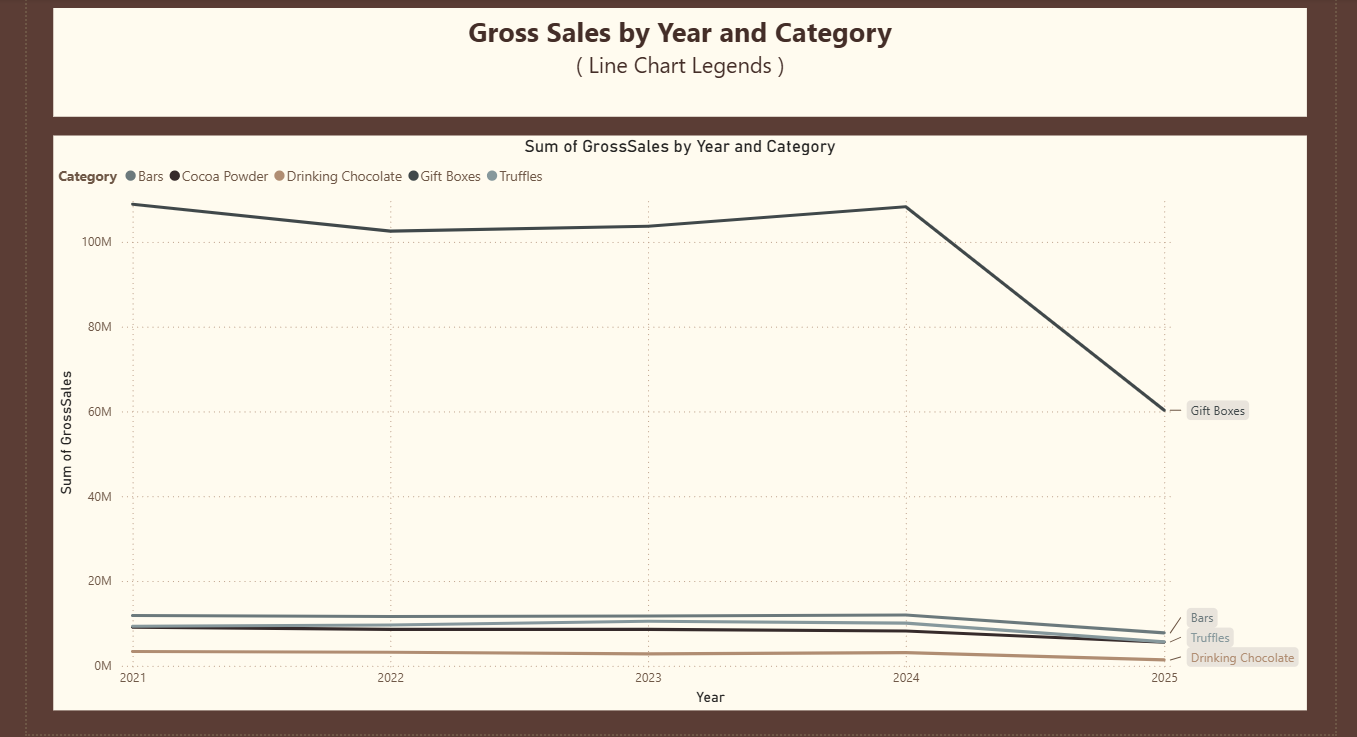

This screenshot's page, from the dashboard's own definition file:
{"tool":"powerbi","page":{"name":"Line Chart Legends","canvas":[1280,720],"ordinal":3},"visuals":[{"type":"lineChart","fields":{"Category":["DimDate.Date.Variation.Date Hierarchy.Year","DimDate.Date.Variation.Date Hierarchy.Quarter","DimDate.Date.Variation.Date Hierarchy.Month","DimDate.Date.Variation.Date Hierarchy.Day"],"Y":["Sum(FactSales.GrossSales)"],"Series":["DimProduct.Category"]},"box":[25.7,134.5,1226.5,562.5],"z":0},{"type":"textbox","box":[25.7,9.8,1226.5,106.4],"z":1000}]}

Visuals, with their boxes on the page's 1280x720 design canvas (x1, y1, x2, y2). These are canvas units, not pixel positions in the 1357x737 screenshot, which may show the page scaled, cropped or inside an application window:
lineChart - DimDate.Date.Variation.Date Hierarchy.Year x DimDate.Date.Variation.Date Hierarchy.Quarter: [x1=26, y1=134, x2=1252, y2=697]
textbox: [x1=26, y1=10, x2=1252, y2=116]
